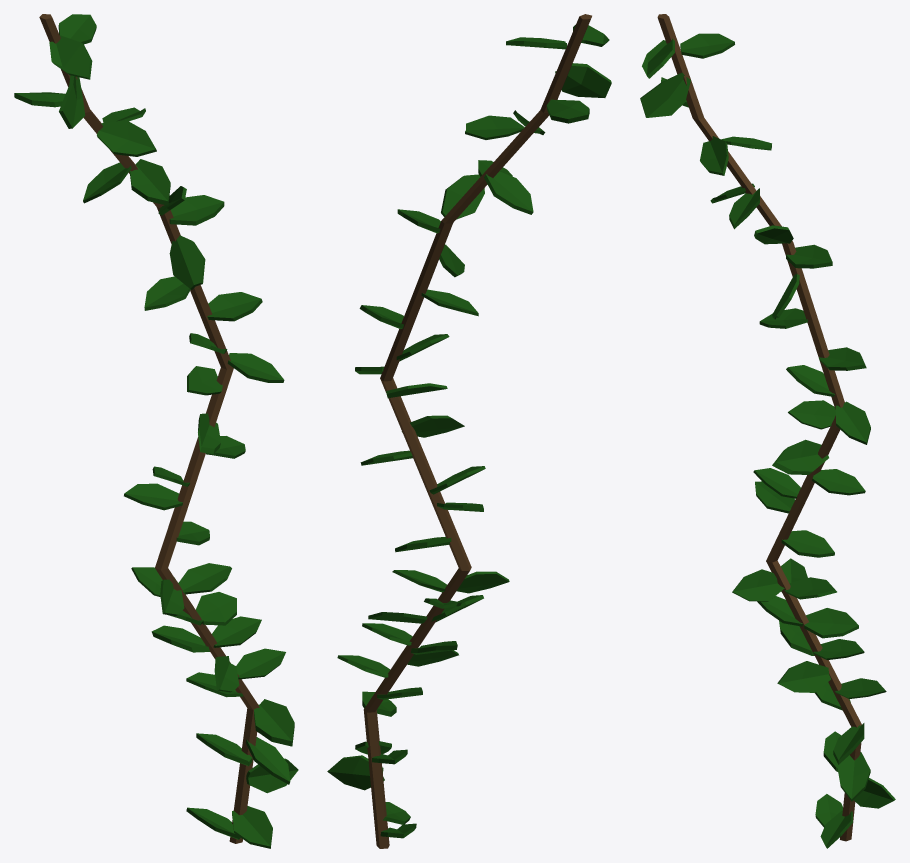
The model's file is vineWallScaling.fbx.
3 views of the same model, side by side, from view 1: azimuth 30°, elevation 25°; view 2: azimuth 150°, elevation 25°; view 3: azimuth 330°, elevation 25° (orthographic). The views are drawn at different scales.
Parts seen in each view (by area): view 1: Cylinder.010; view 2: Cylinder.010; view 3: Cylinder.010.
Boxes of the visible parts, x1,y1,x2,y2 form: Cylinder.010: (14, 14, 298, 848); Cylinder.010: (327, 14, 611, 848); Cylinder.010: (640, 14, 895, 848).
Size of the model in its own units: 80.73 by 248 by 30.73.
